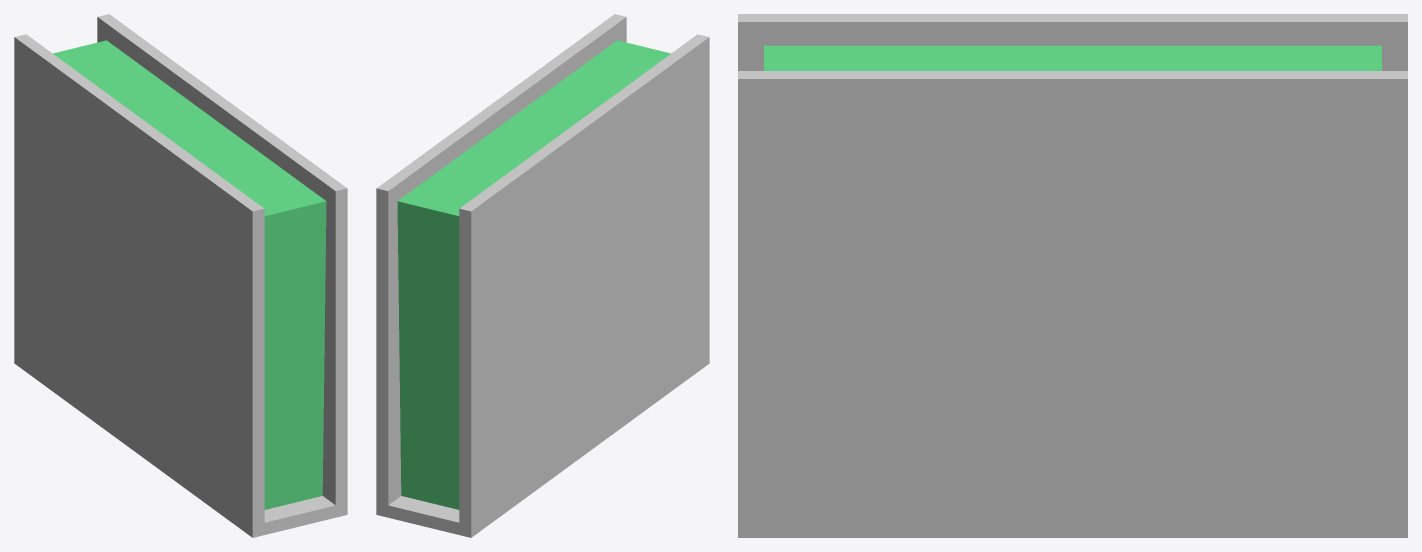
File: propsMaison_livre.fbx
3 views of the same model, side by side, from view 1: azimuth 30°, elevation 25°; view 2: azimuth 150°, elevation 25°; view 3: azimuth 270°, elevation 25° (orthographic). The views are drawn at different scales.
Visible parts, largest first — view 1: livre; view 2: livre; view 3: livre.
Part boxes in pixels (bbox=[...]): livre: bbox=[14, 14, 347, 537]; livre: bbox=[376, 14, 709, 537]; livre: bbox=[738, 14, 1407, 537].
Size of the model in its own units: 45.91 by 151 by 200.
